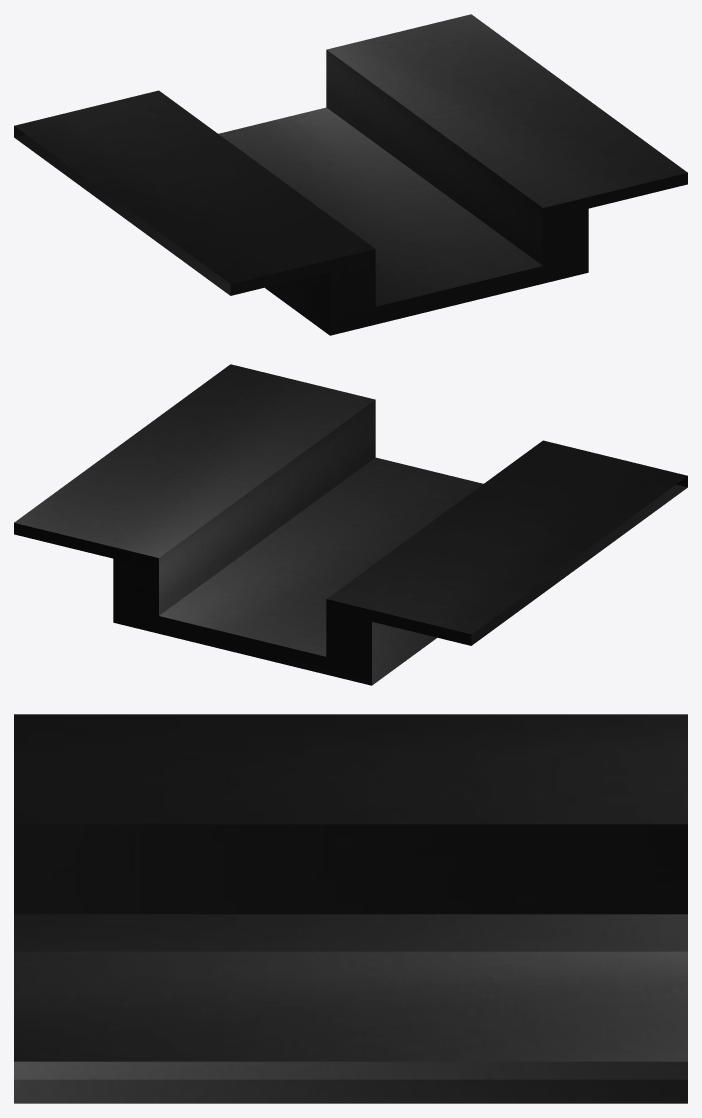
Rendered from Boden_Stachel.fbx.
The picture shows the model from 3 angles, top to bottom: view 1: azimuth 30°, elevation 25°; view 2: azimuth 150°, elevation 25°; view 3: azimuth 270°, elevation 25°; orthographic projection. The views are drawn at different scales.
Visible parts, largest first — view 1: polySurface243; view 2: polySurface243; view 3: polySurface243.
Boxes of the visible parts, x1,y1,x2,y2 form: polySurface243: (14,14,687,335); polySurface243: (14,364,687,685); polySurface243: (14,714,687,1103).
Size of the model in its own units: 78.32 by 12.38 by 64.24.
1 material, 1 textured.
